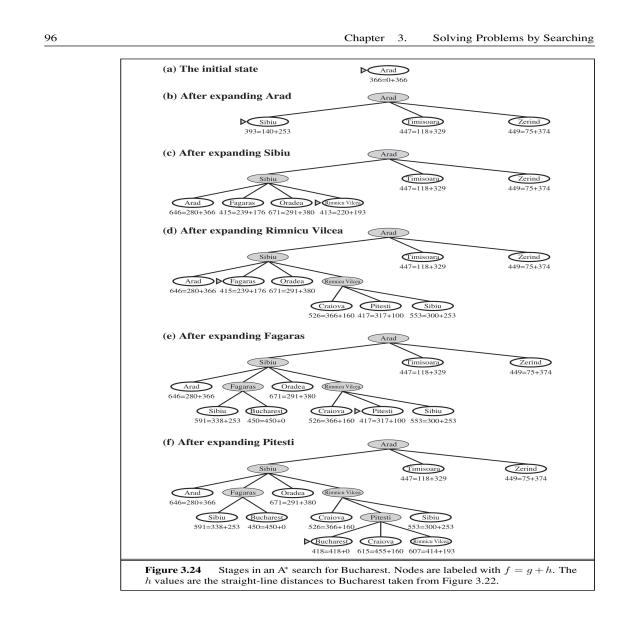diagram: (69, 53, 640, 592)
